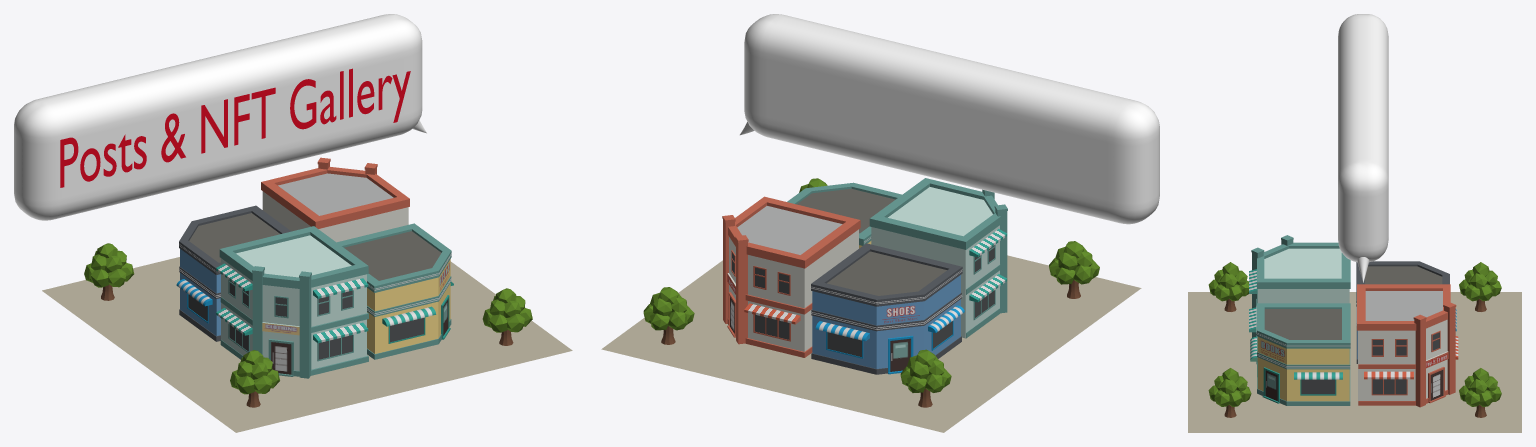
File: shoparea1.glb
3 renders of one model, left to right at view 1: azimuth 30°, elevation 25°; view 2: azimuth 150°, elevation 25°; view 3: azimuth 270°, elevation 25°, orthographic. The views are drawn at different scales.
Visible parts, largest first — view 1: Building_Fruits Shop_Cube.2119, speech_shop, speech_text; view 2: Building_Fruits Shop_Cube.2119, speech_shop; view 3: Building_Fruits Shop_Cube.2119, speech_shop.
Boxes of the visible parts, x1=… form: Building_Fruits Shop_Cube.2119: x1=42, y1=157, x2=572, y2=432; speech_shop: x1=14, y1=14, x2=426, y2=220; speech_text: x1=60, y1=68, x2=410, y2=187; Building_Fruits Shop_Cube.2119: x1=601, y1=178, x2=1141, y2=432; speech_shop: x1=740, y1=14, x2=1159, y2=224; Building_Fruits Shop_Cube.2119: x1=1188, y1=235, x2=1521, y2=432; speech_shop: x1=1338, y1=14, x2=1388, y2=282.
Bounding box in the file's own units: 53.64 × 31.45 × 40.
8 materials, 6 textured.
